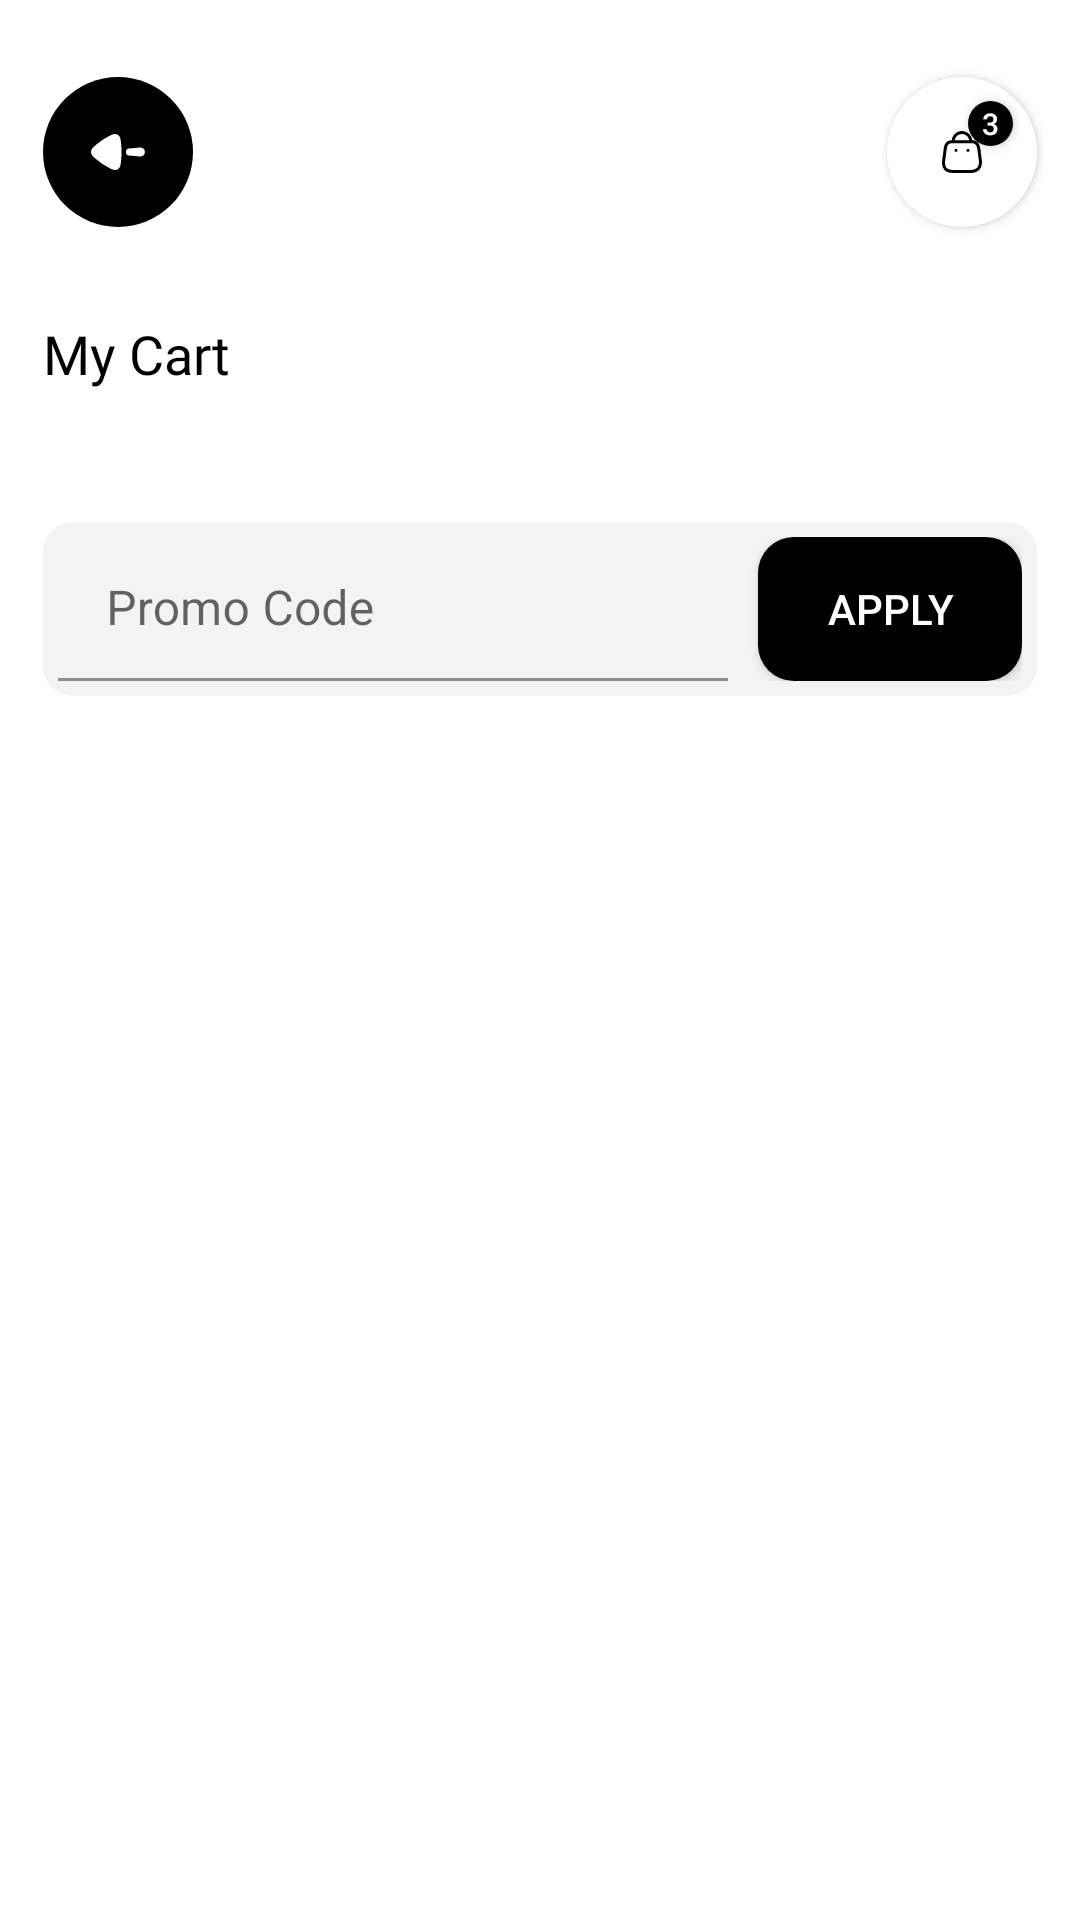

Icons on this 1080w x 1920h Android screen, each with the point to tap as (x,y):
back arrow: (118,152)
